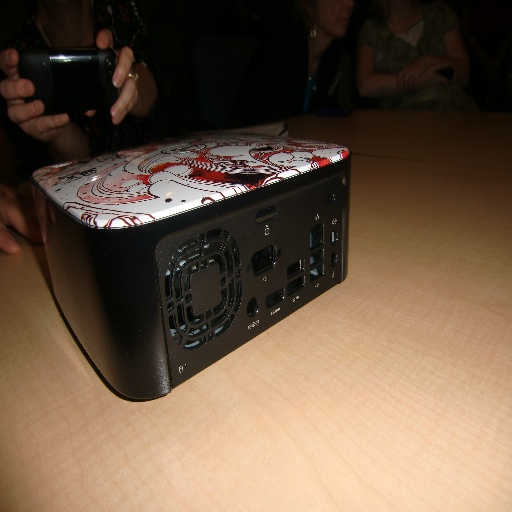hand: (0, 58, 87, 153), (84, 26, 140, 130), (0, 174, 44, 256), (396, 56, 429, 89), (424, 58, 456, 86)
